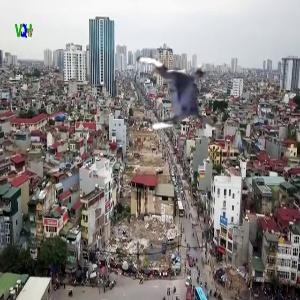drone: (132, 47, 228, 143)
